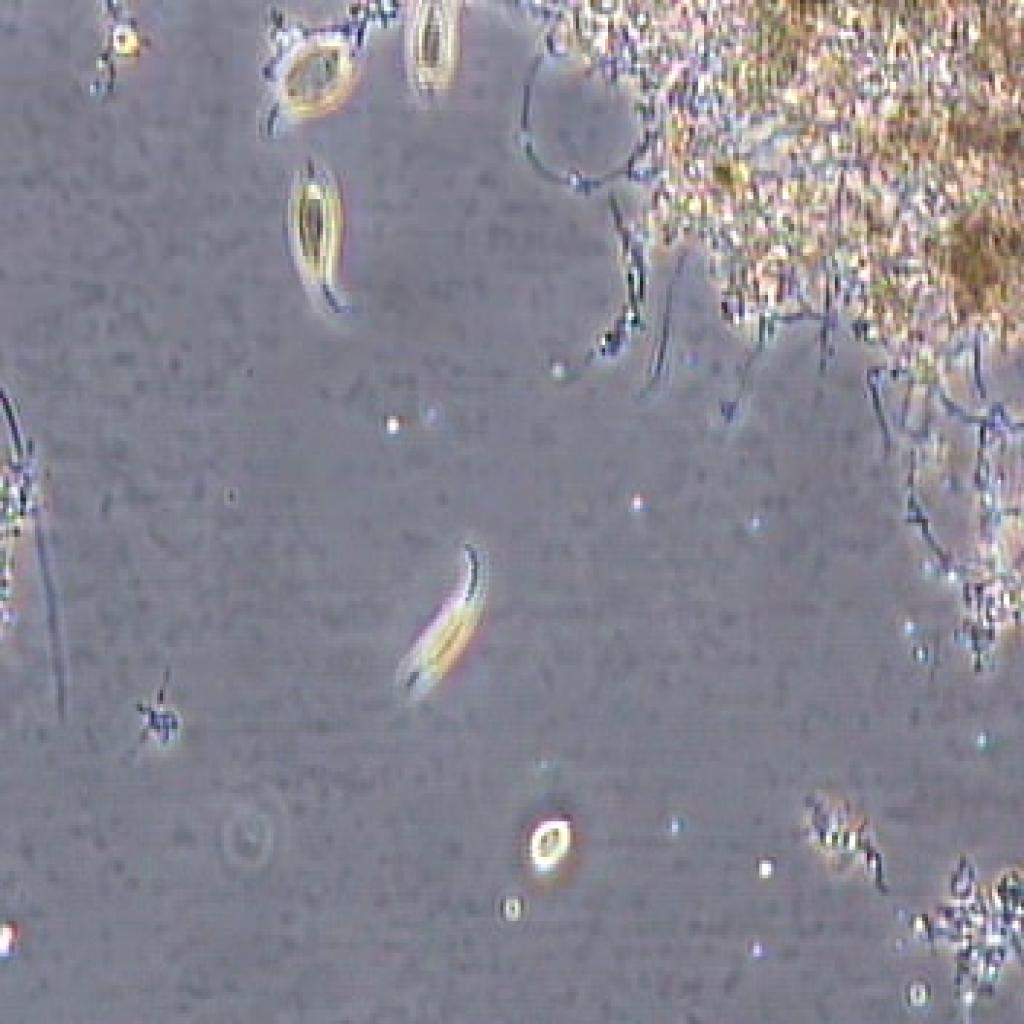Pristina: (368, 524, 531, 710), (268, 146, 384, 345), (237, 30, 371, 151)
